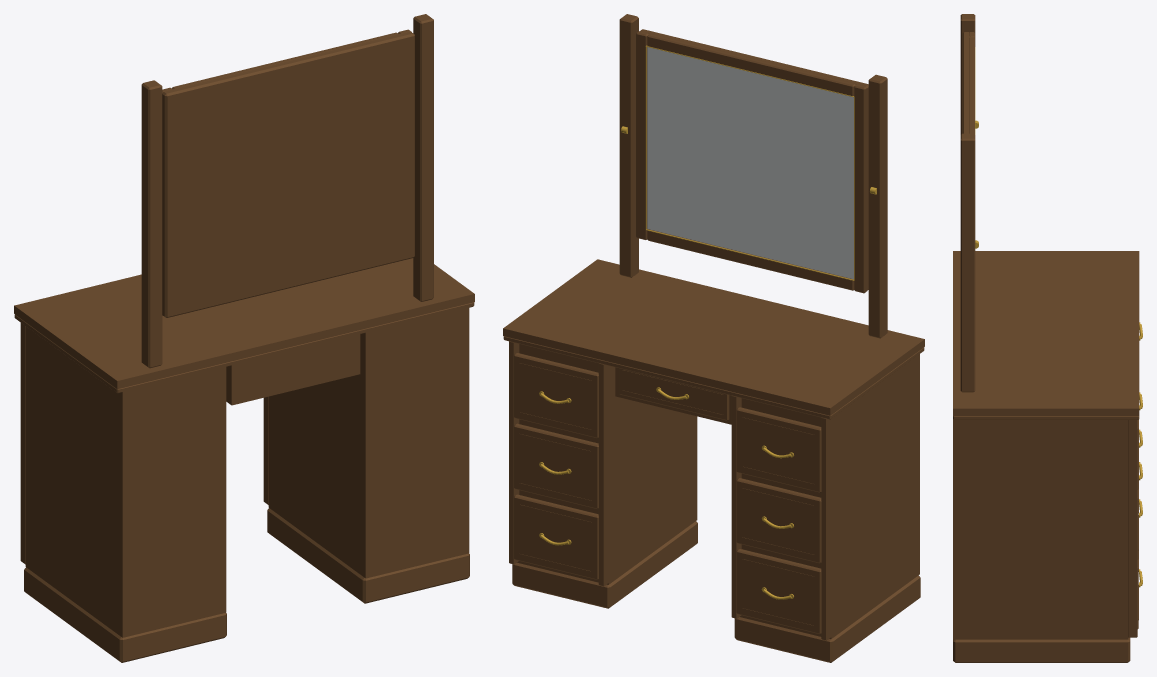
The model's file is parametric-dressing_table-1st-pub.glb.
3 renders of one model, left to right at view 1: azimuth 30°, elevation 25°; view 2: azimuth 150°, elevation 25°; view 3: azimuth 270°, elevation 25°, orthographic. The views are drawn at different scales.
Visible parts, largest first — view 1: parametric-dressing_table-1st-pub; view 2: parametric-dressing_table-1st-pub; view 3: parametric-dressing_table-1st-pub.
Boxes of the visible parts, box(x1,y1,x2,y2) form: parametric-dressing_table-1st-pub: box(14, 14, 474, 662); parametric-dressing_table-1st-pub: box(503, 14, 924, 662); parametric-dressing_table-1st-pub: box(953, 14, 1142, 662).
Size of the model in its own units: 1 by 1.51 by 0.5093.
